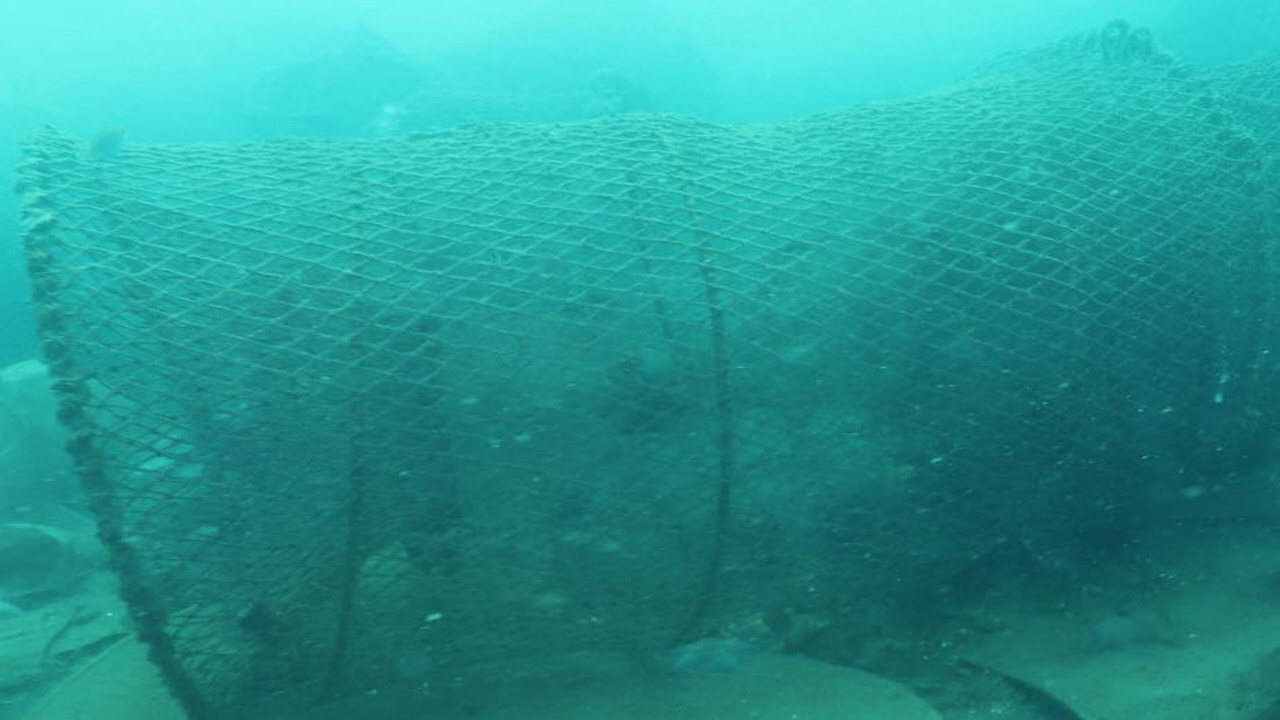spring fish trap: (9, 21, 1280, 720)
